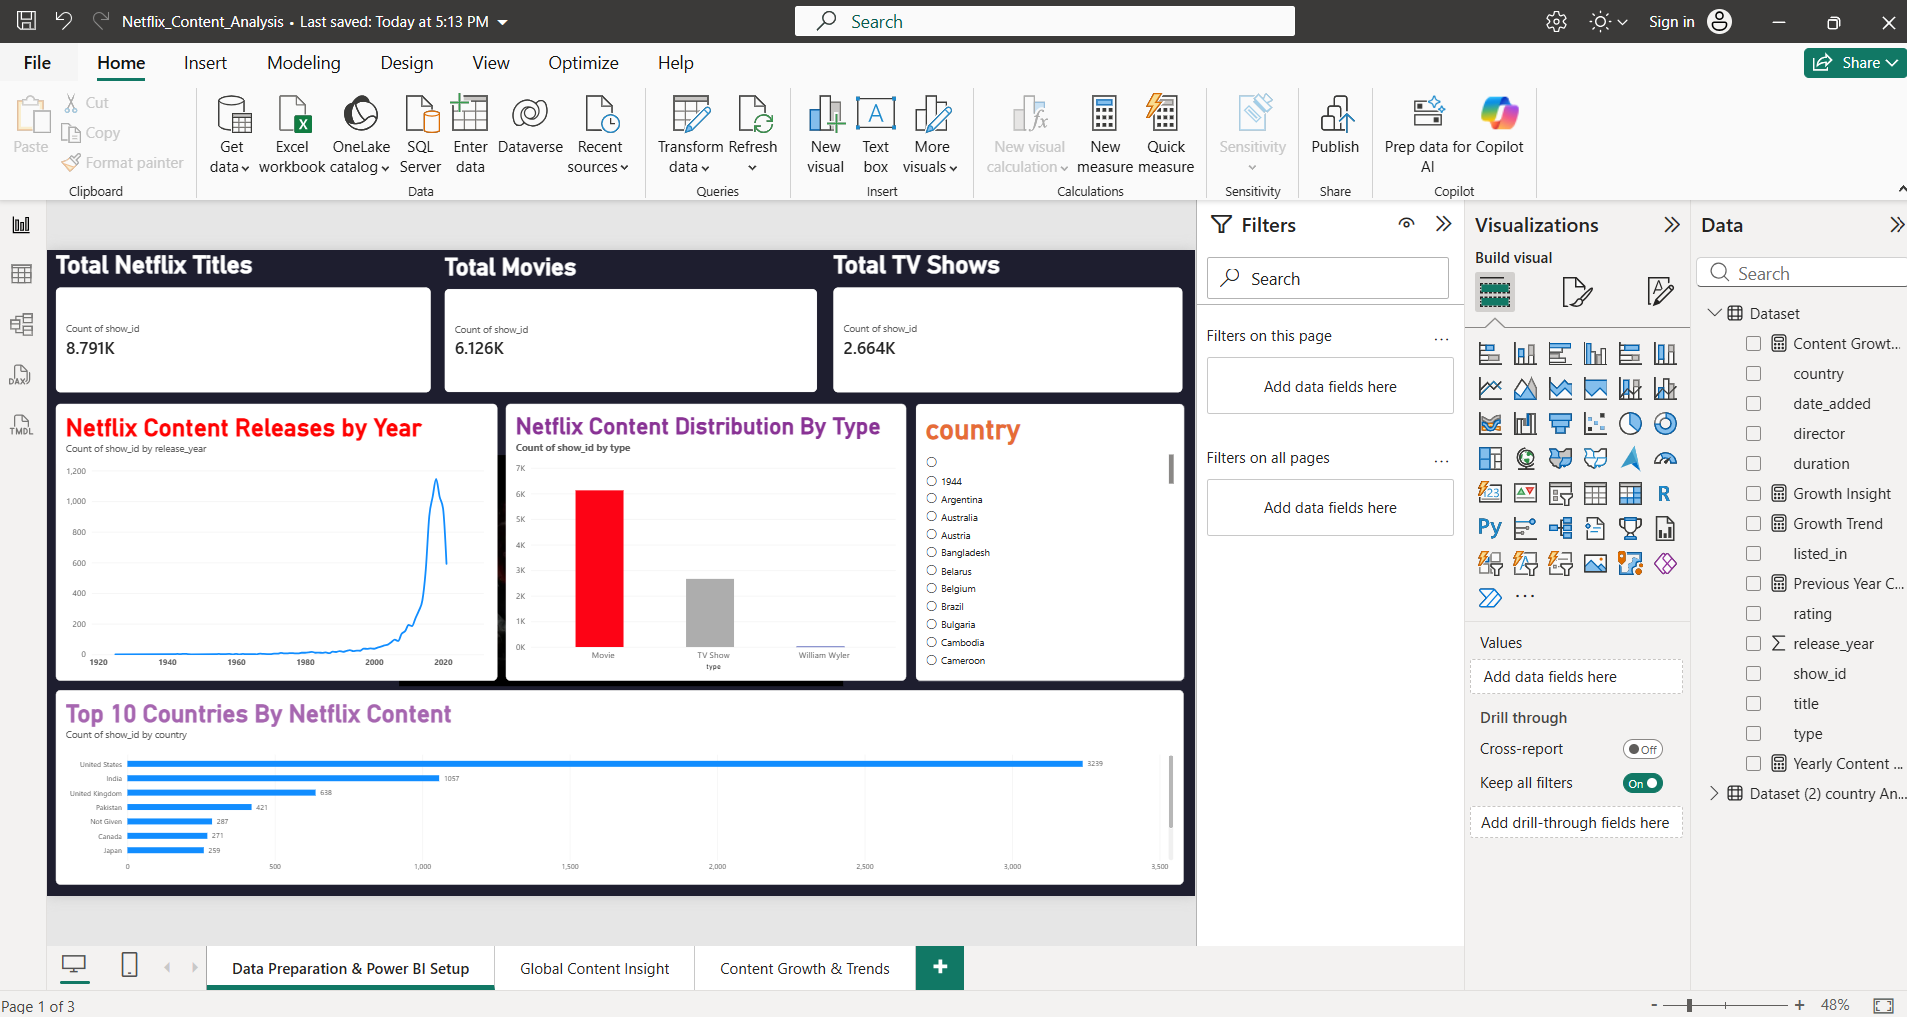

The page's visual inventory and layout, read from the dashboard file:
{"tool":"powerbi","page":{"name":"Data Preparation & Power BI Setup","canvas":[1920,1080],"ordinal":0},"visuals":[{"type":"cardVisual","title":"Total Netflix Titles","fields":{"Data":["CountNonNull(Dataset.show_id)"]},"box":[14.4,0,627.8,238.8],"z":0},{"type":"clusteredColumnChart","title":"Netflix Content Distribution By Type","fields":{"Category":["Dataset.type"],"Y":["CountNonNull(Dataset.show_id)"]},"box":[767.3,257,669.6,463.3],"z":1000},{"type":"clusteredBarChart","title":"Top 10 Countries By Netflix Content","fields":{"Category":["Dataset.country"],"Y":["CountNonNull(Dataset.show_id)"]},"box":[14.5,736.5,1885.7,325.7],"z":2000},{"type":"lineChart","title":"Netflix Content Releases by Year","fields":{"Category":["Dataset.release_year"],"Y":["CountNonNull(Dataset.show_id)"]},"box":[14.5,257,738.3,463.3],"z":3000},{"type":"cardVisual","title":"Total Movies","fields":{"Data":["CountNonNull(Dataset.show_id)"]},"box":[664.8,4.1,623.7,234.6],"z":5000},{"type":"cardVisual","title":"Total TV Shows","fields":{"Data":["CountNonNull(Dataset.show_id)"]},"box":[1315.3,0,584.6,238.8],"z":6000},{"type":"listSlicer","fields":{"Values":["Dataset.country"]},"box":[1451.3,257,448.8,463.3],"z":7000}]}

Visuals, with their boxes on the page's 1920x1080 design canvas (x1, y1, x2, y2). These are canvas units, not pixel positions in the 1907x1017 screenshot, which may show the page scaled, cropped or inside an application window:
"Total Netflix Titles" cardVisual: pyautogui.locateOnScreen(14, 0, 642, 239)
"Netflix Content Distribution By Type" clusteredColumnChart: pyautogui.locateOnScreen(767, 257, 1437, 720)
"Top 10 Countries By Netflix Content" clusteredBarChart: pyautogui.locateOnScreen(14, 736, 1900, 1062)
"Netflix Content Releases by Year" lineChart: pyautogui.locateOnScreen(14, 257, 753, 720)
"Total Movies" cardVisual: pyautogui.locateOnScreen(665, 4, 1288, 239)
"Total TV Shows" cardVisual: pyautogui.locateOnScreen(1315, 0, 1900, 239)
listSlicer - Dataset.country: pyautogui.locateOnScreen(1451, 257, 1900, 720)
